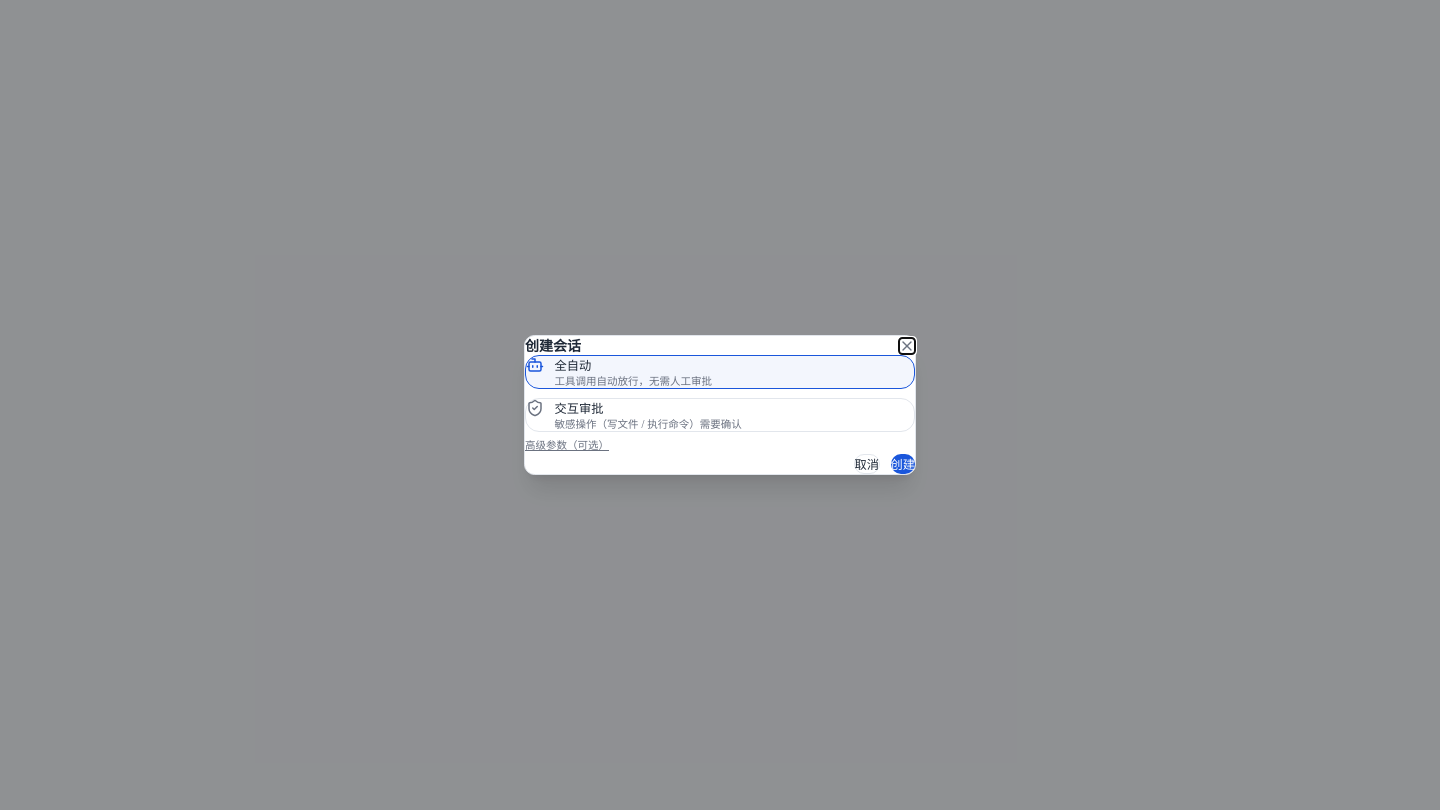
Test: CreateDialog › 非法高级参数即时报错并禁用创建按钮
The width and height of the screenshot is (1440, 810).
Click the button "高级参数（可选）": point(567, 445) [525,438,609,452]
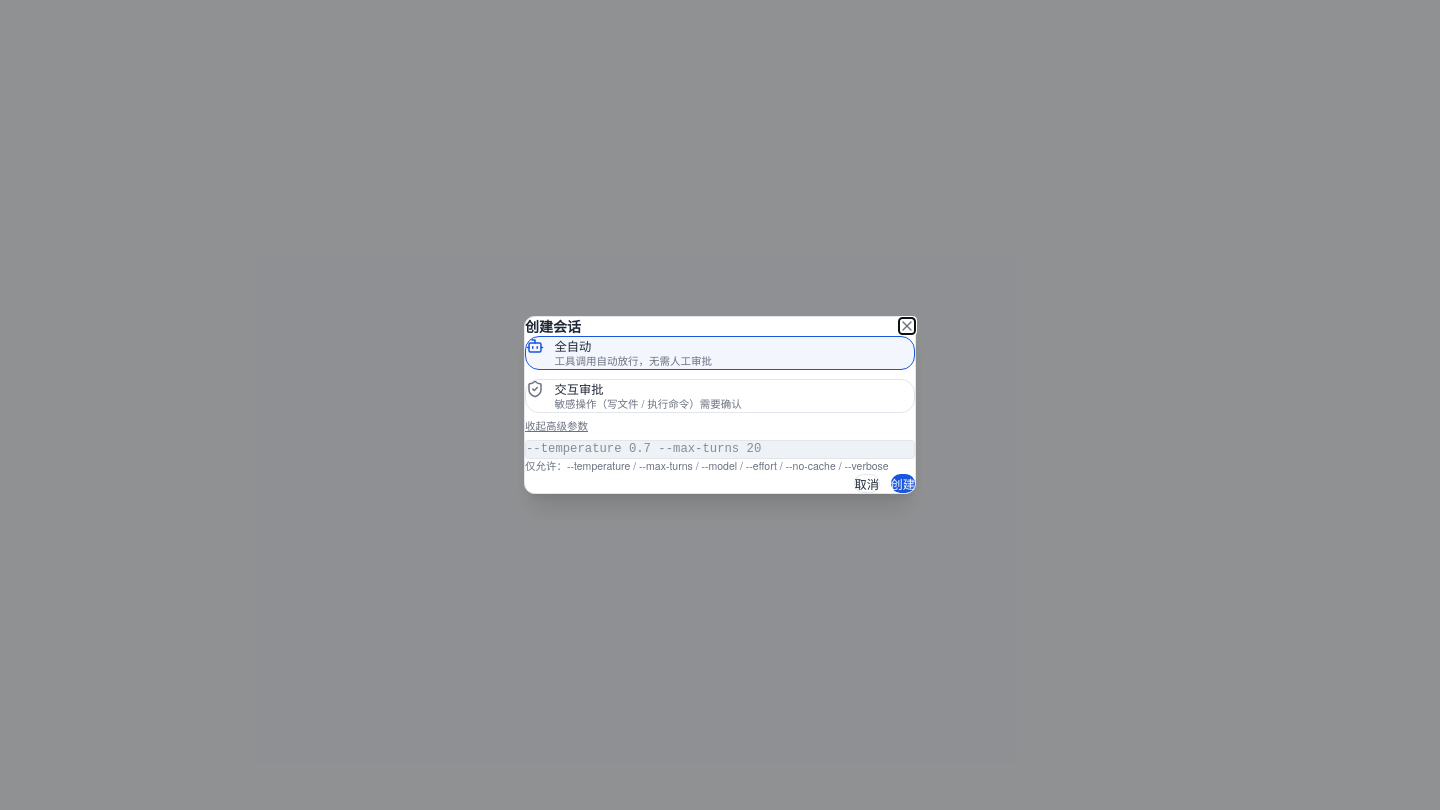
In the field named "额外参数": point(720, 450) [525,440,915,459], type "--rm"
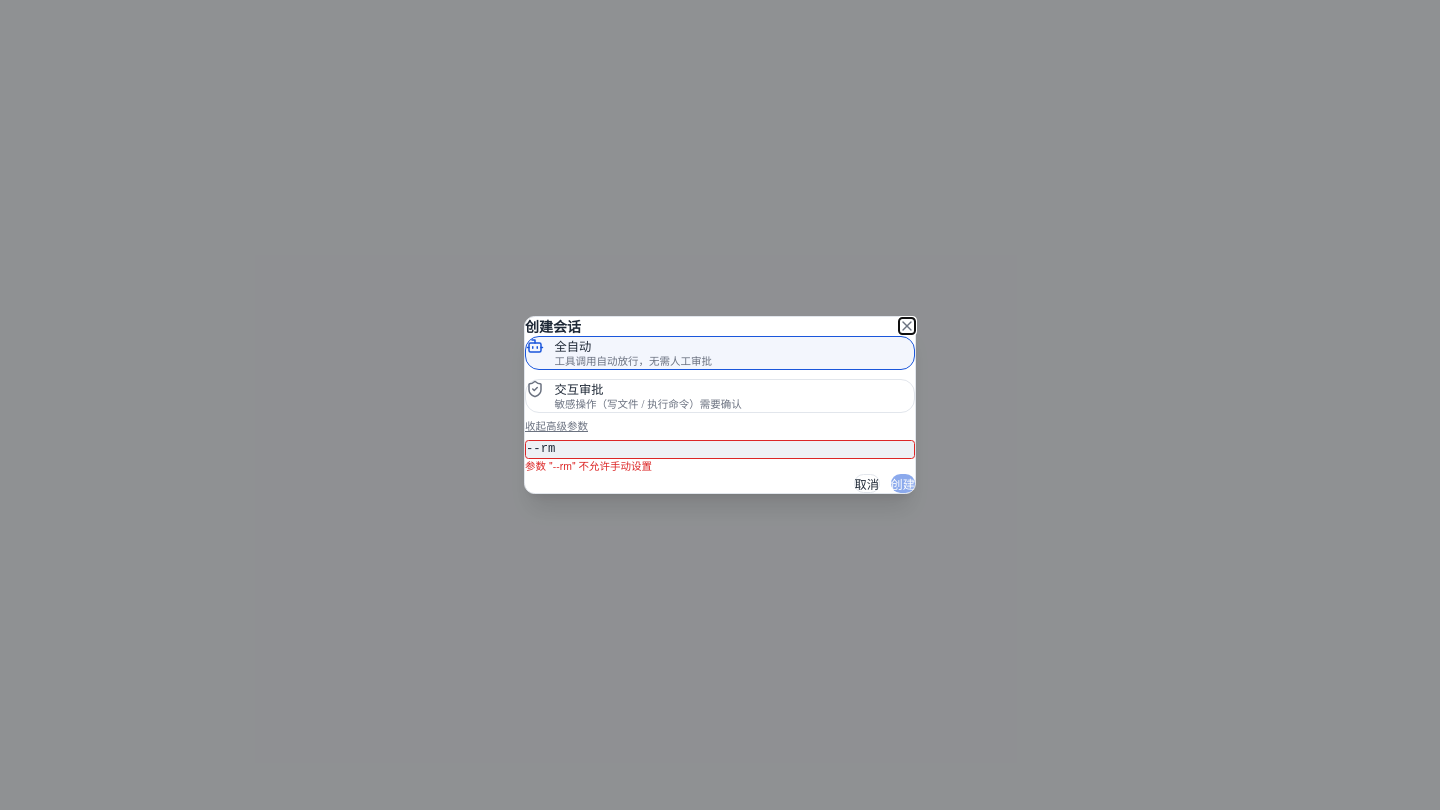
Expected: the message "参数 \"--rm\" 不允许手动设置" is shown, [525,458,652,473]
Expected: the button "创建" is disabled, [890,474,915,493]
//  修正后错误消失
Replace the text in the field named "额外参数" with "--temperature 0.7": point(720, 450) [525,440,915,459]
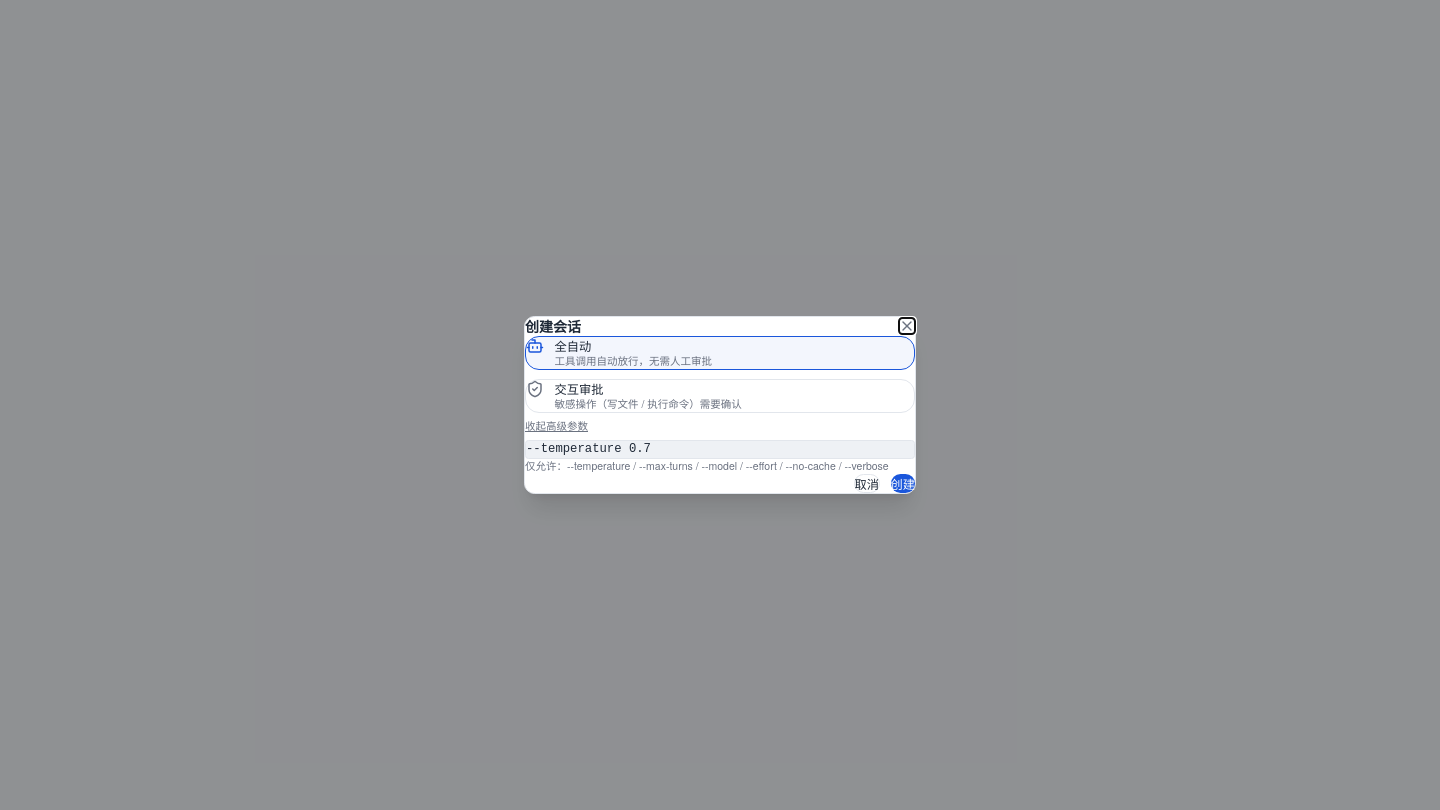
Expected: the button "创建" is enabled, [890,474,915,493]
